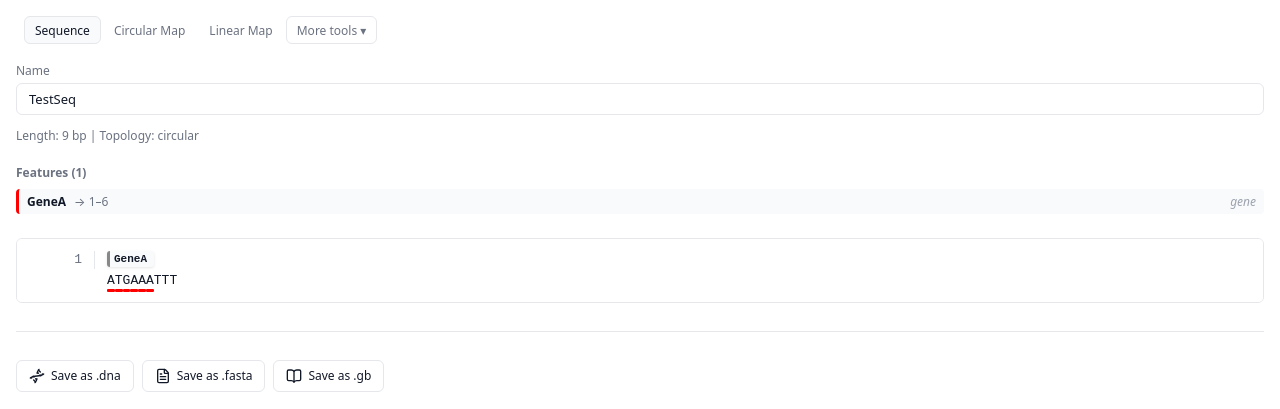
Test case: SequenceViewer › opens context menu on right-click and copies forward, reverse-complement, and translation when feature selected
Click the element with class "feature-tile" at (640, 202), box left=16, top=189, right=1264, bottom=214
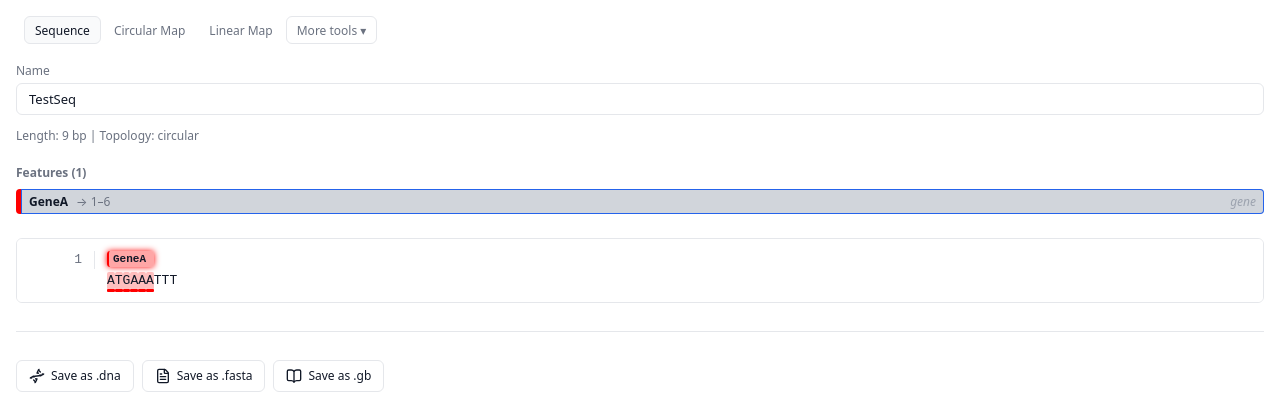
// Right click to open context menu
Right-click the element with class "seq-window" at (640, 271), box left=16, top=238, right=1264, bottom=303
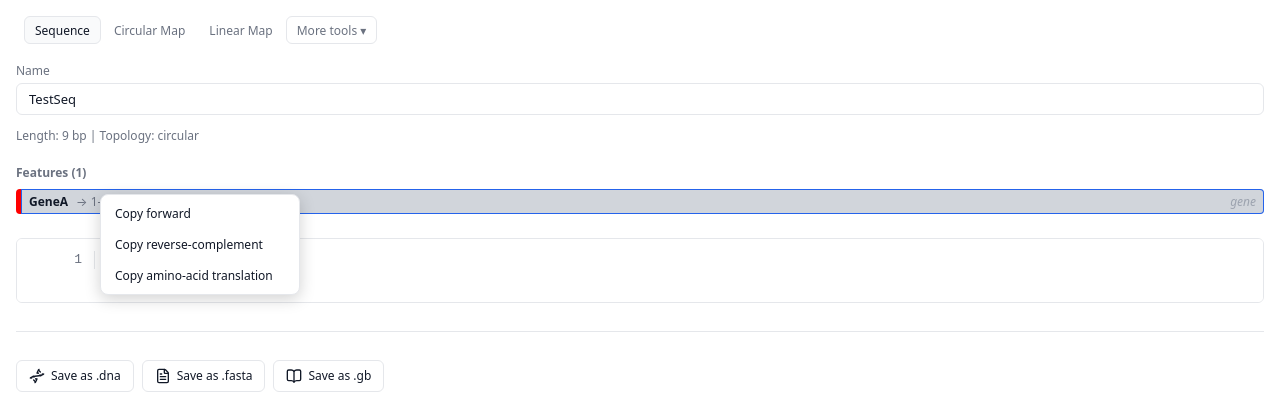
Check: the menu named "sequence context menu" is shown, box left=100, top=194, right=300, bottom=295
// Click "Copy reverse-complement"
Click the menu item "Copy reverse-complement" at (200, 244), box left=105, top=230, right=295, bottom=259
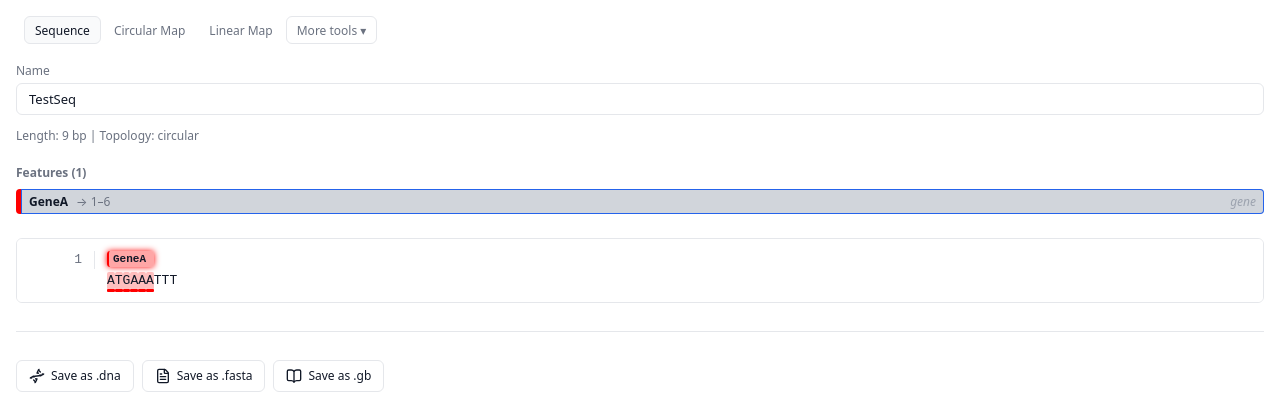
Check: the menu "sequence context menu" is gone
